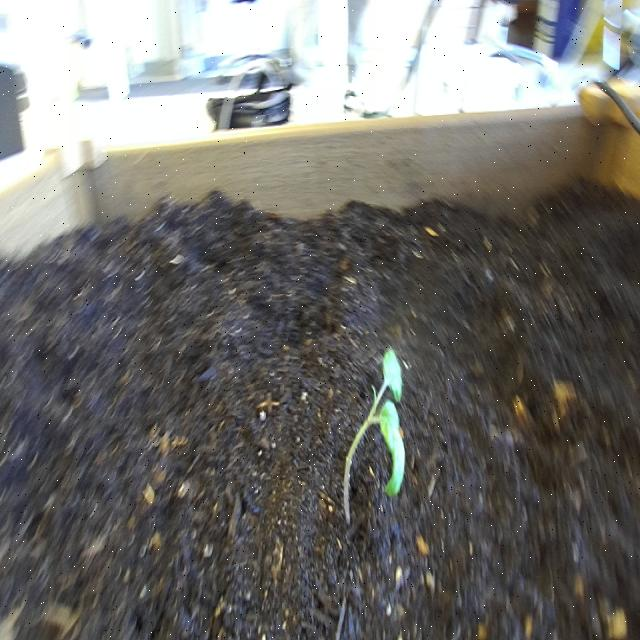Healthy: (340, 343, 408, 532)
